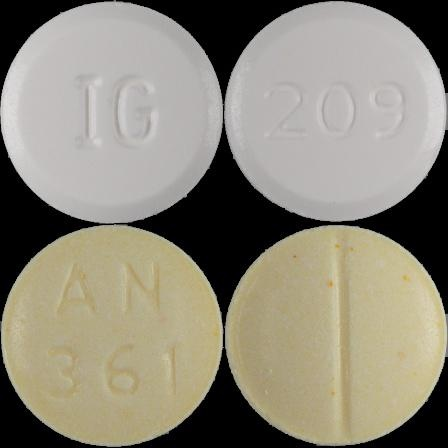63629-2807: (0, 0, 224, 224)
